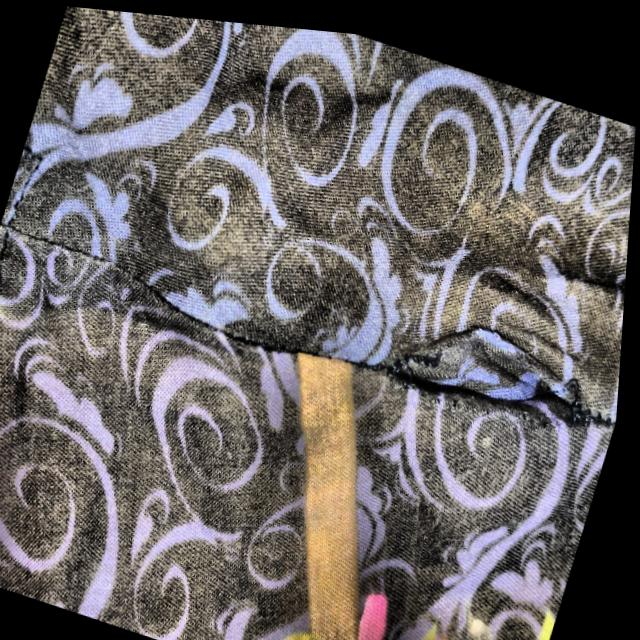seam: (356, 240, 621, 503)
